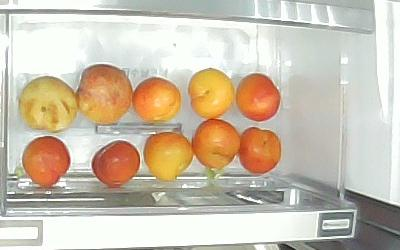prune: (75, 64, 133, 125), (18, 74, 77, 132), (22, 132, 76, 187), (144, 132, 194, 181), (187, 68, 235, 118), (91, 140, 141, 188), (192, 119, 240, 169), (133, 77, 182, 124), (236, 73, 281, 123), (240, 126, 283, 174)
